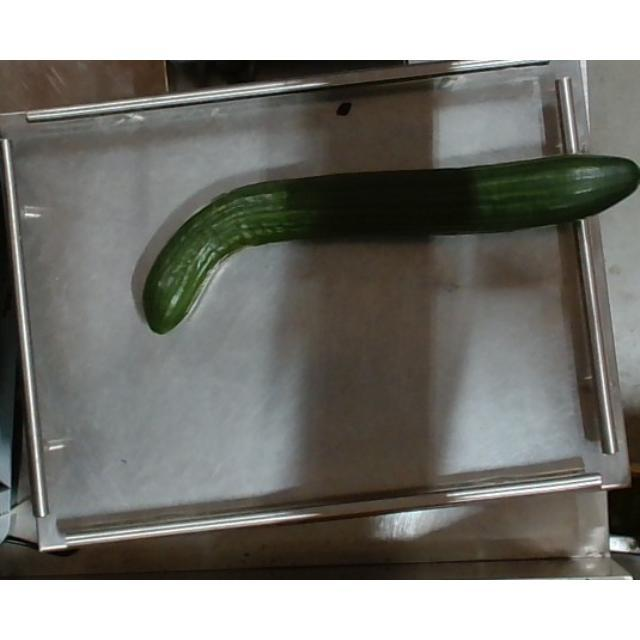cucumber: (144, 150, 640, 340)
